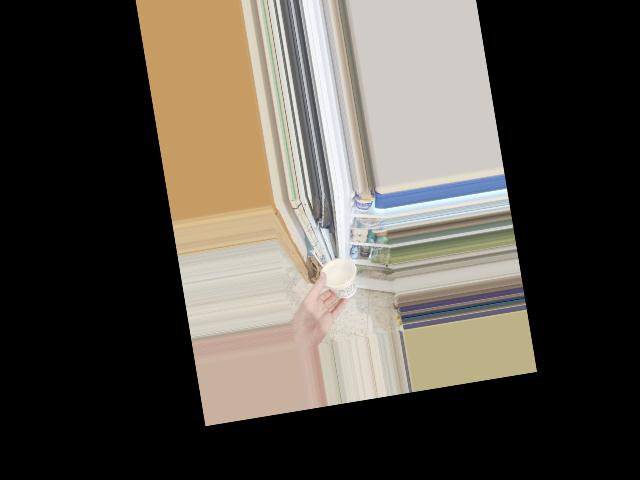cotage: (320, 258, 358, 302)
